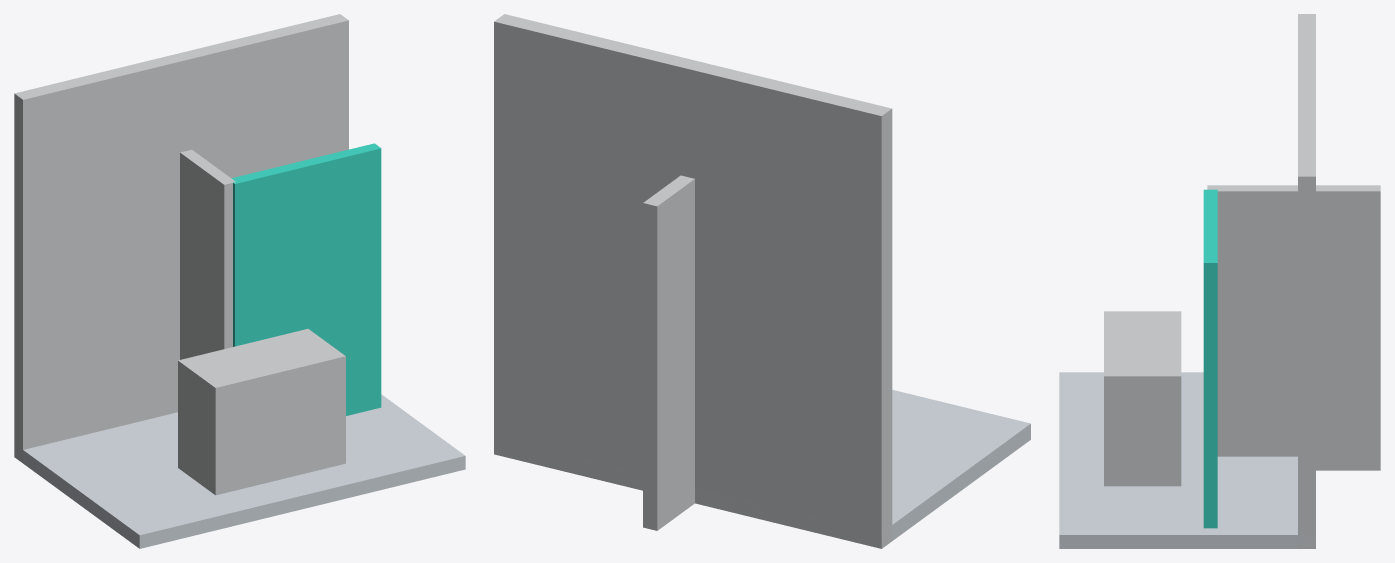
The picture shows the model from 3 angles, left to right: view 1: azimuth 30°, elevation 25°; view 2: azimuth 150°, elevation 25°; view 3: azimuth 270°, elevation 25°; orthographic projection. The views are drawn at different scales.
Parts seen in each view (by area): view 1: Exhibition Booth Concept; view 2: Exhibition Booth Concept; view 3: Exhibition Booth Concept.
Part boxes in pixels (x1=…): Exhibition Booth Concept: x1=14, y1=14, x2=465, y2=548; Exhibition Booth Concept: x1=494, y1=14, x2=1030, y2=548; Exhibition Booth Concept: x1=1059, y1=14, x2=1380, y2=548.
Bounding box in the file's own units: 3 × 3.2 × 2.5.
